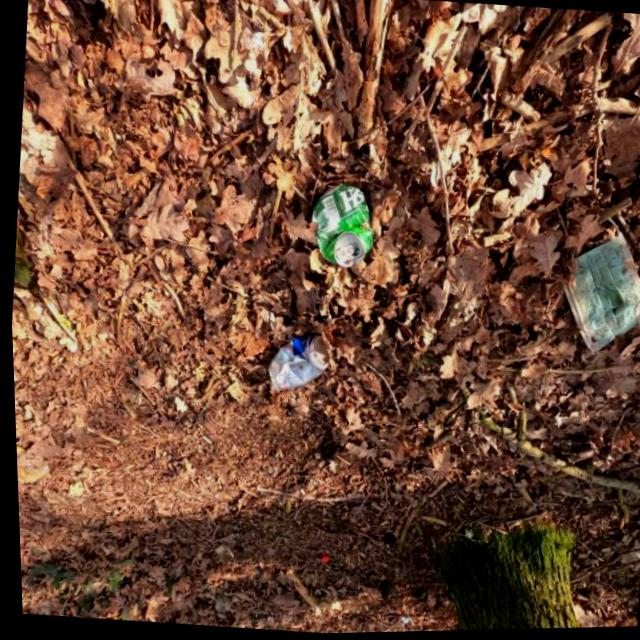Can-Metal: (302, 180, 375, 272), (260, 327, 330, 397)
Mask: (549, 213, 640, 371)
